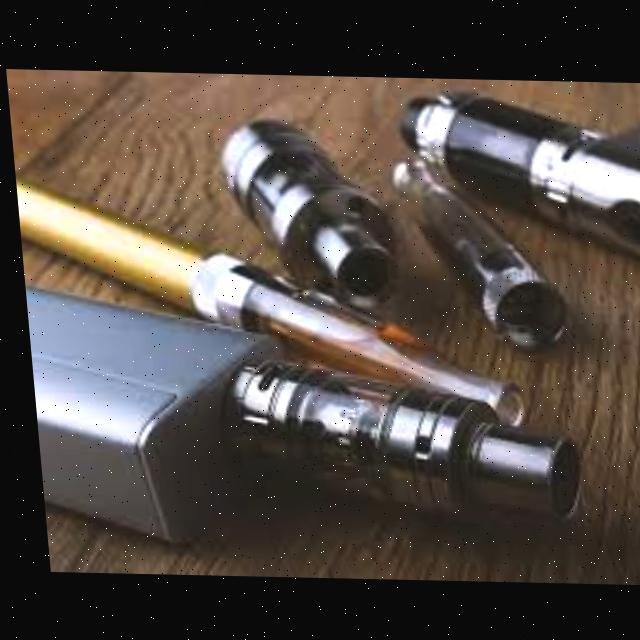vape: (20, 283, 583, 553), (12, 173, 523, 427), (393, 75, 640, 263)
